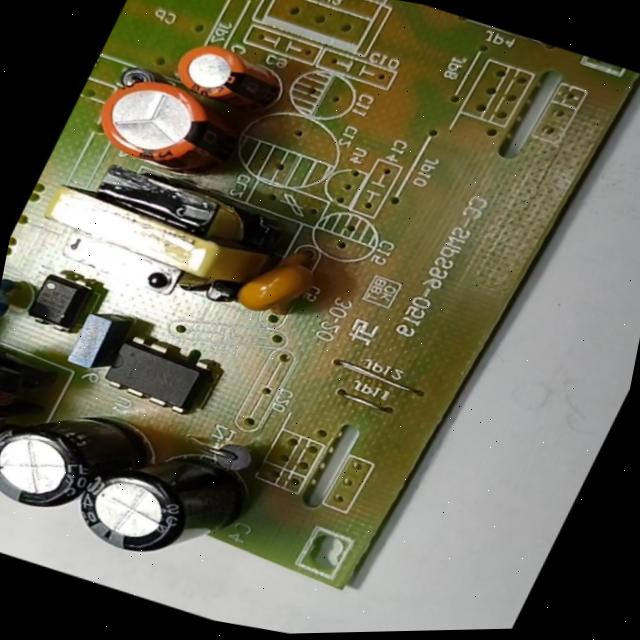Cap1: (81, 63, 253, 189)
Cap2: (163, 35, 290, 119)
Cap3: (0, 375, 139, 535)
Cap4: (62, 420, 258, 585)
MOSFET: (94, 326, 220, 420)
Mov: (0, 272, 30, 341)
Transformer: (14, 134, 294, 328), (0, 343, 27, 481)
